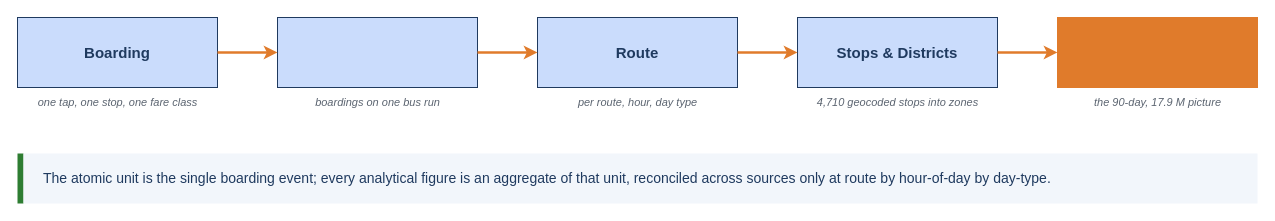
Some shapes in this 1275 by 221 pixel diagram are drawn without their labels. Here are the shapes that lost their labels. From the top down, the centre of each, then its label:
At point (377, 52): "Trip".
At point (1157, 52): "Network".
